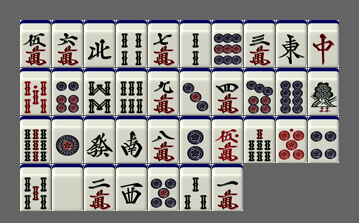0m: (212, 116, 243, 163)
0p: (276, 116, 307, 163)
0s: (20, 68, 51, 115)
1m: (212, 164, 243, 211)
1p: (52, 116, 83, 163)
1s: (308, 68, 339, 115)
1z: (276, 20, 307, 67)
2m: (84, 164, 115, 211)
2p: (180, 116, 211, 163)
2s: (180, 20, 211, 67)
2z: (116, 116, 147, 163)
3m: (244, 20, 275, 67)
3p: (180, 68, 211, 115)
3s: (180, 164, 211, 211)
3z: (116, 164, 147, 211)
4m: (212, 68, 243, 115)
4p: (308, 116, 339, 163)
4s: (116, 20, 147, 67)
4z: (84, 20, 115, 67)
5m: (20, 20, 51, 67)
5p: (148, 164, 179, 211)
5s: (20, 164, 51, 211)
5z: (52, 164, 83, 211)
6m: (52, 20, 83, 67)
6p: (52, 68, 83, 115)
6s: (116, 68, 147, 115)
6z: (84, 116, 115, 163)
7m: (148, 20, 179, 67)
7p: (244, 68, 275, 115)
7s: (244, 116, 275, 163)
7z: (308, 20, 339, 67)
8m: (148, 116, 179, 163)
8p: (276, 68, 307, 115)
8s: (84, 68, 115, 115)
9m: (148, 68, 179, 115)
9p: (212, 20, 243, 67)
9s: (20, 116, 51, 163)
